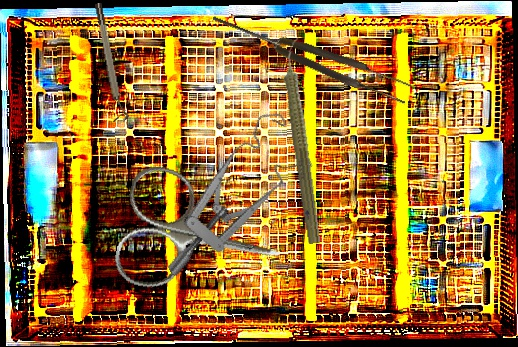Fixation Ring: (92, 1, 130, 123)
Handpiece: (275, 36, 330, 245)
Iris Scissors: (109, 161, 294, 315)
Speculum: (126, 104, 331, 278)
Tissue Forceps: (208, 4, 414, 108)
